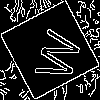W: (25, 25, 83, 84)
